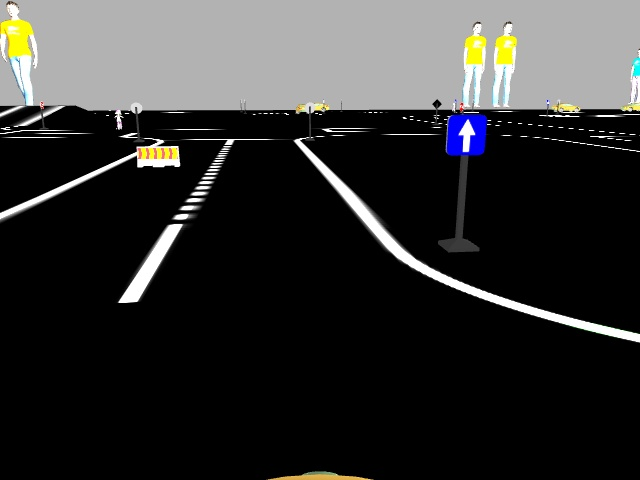ClosedRoadStand: (135, 147, 180, 164)
OneWay: (447, 115, 484, 154)
